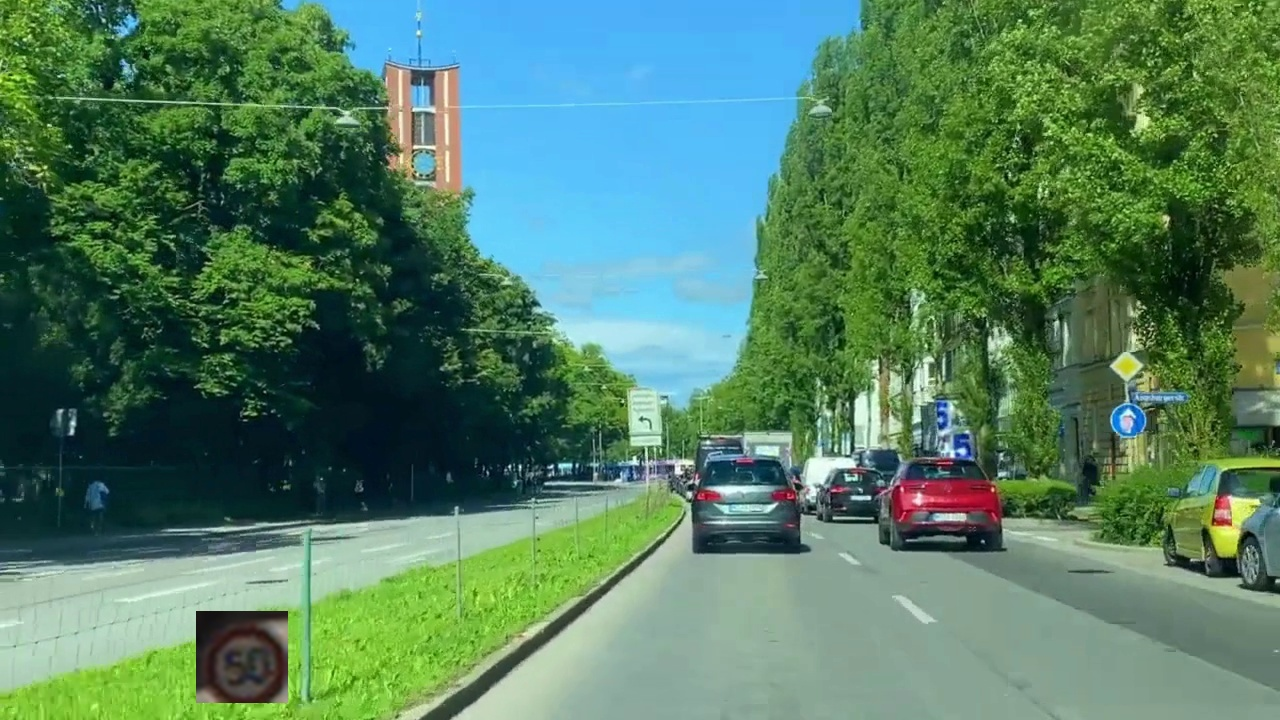Speed 50: (196, 611, 288, 703)
